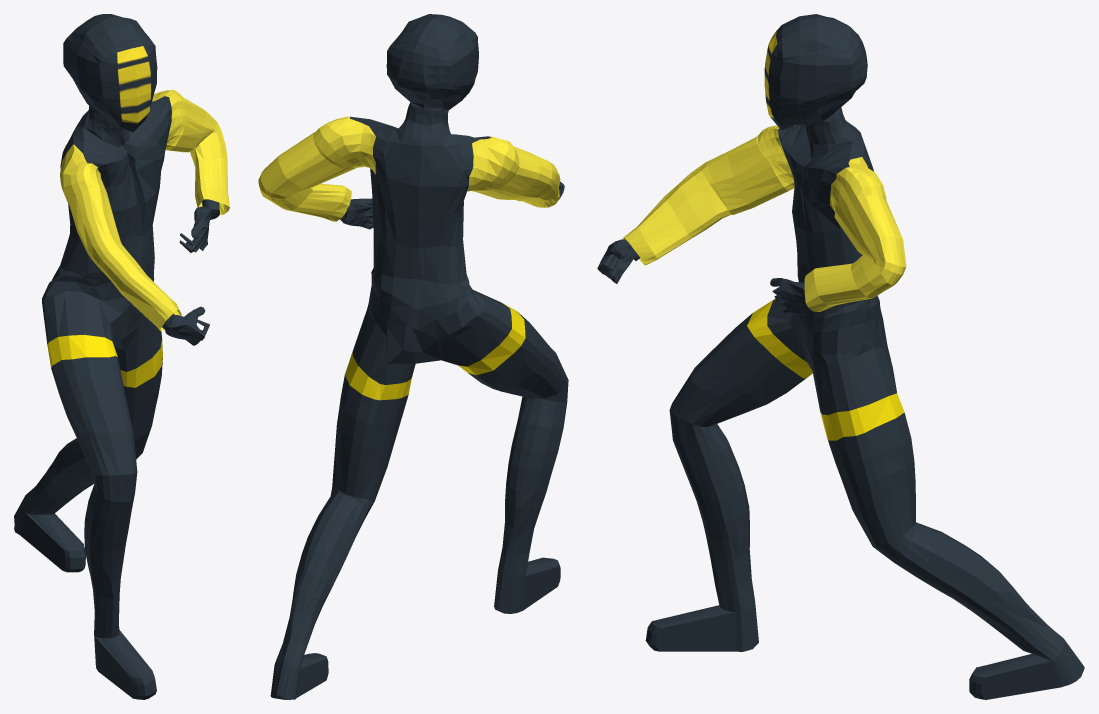
The model's file is Sentry_Hit_Stun_Recover_000006.obj.
The picture shows the model from 3 angles, left to right: view 1: azimuth 30°, elevation 25°; view 2: azimuth 150°, elevation 25°; view 3: azimuth 270°, elevation 25°; orthographic projection. The views are drawn at different scales.
Visible parts, largest first — view 1: Cube; view 2: Cube; view 3: Cube.
Boxes of the visible parts, <box> form: Cube: <box>14,14,229,699</box>; Cube: <box>258,14,568,699</box>; Cube: <box>597,14,1084,699</box>.
Bounding box in the file's own units: 1.33 × 3.57 × 2.4.
